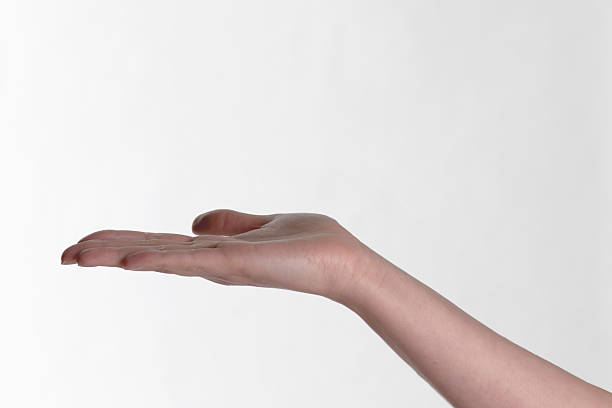hand: (43, 185, 360, 323)
